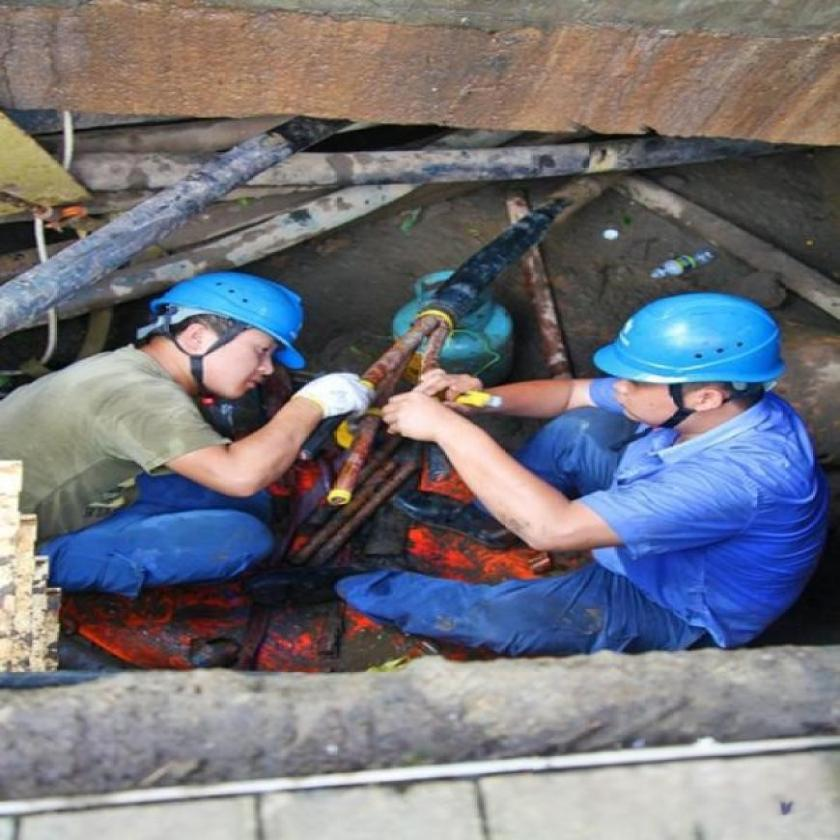Con_casco: (591, 290, 783, 434), (138, 262, 318, 411)
